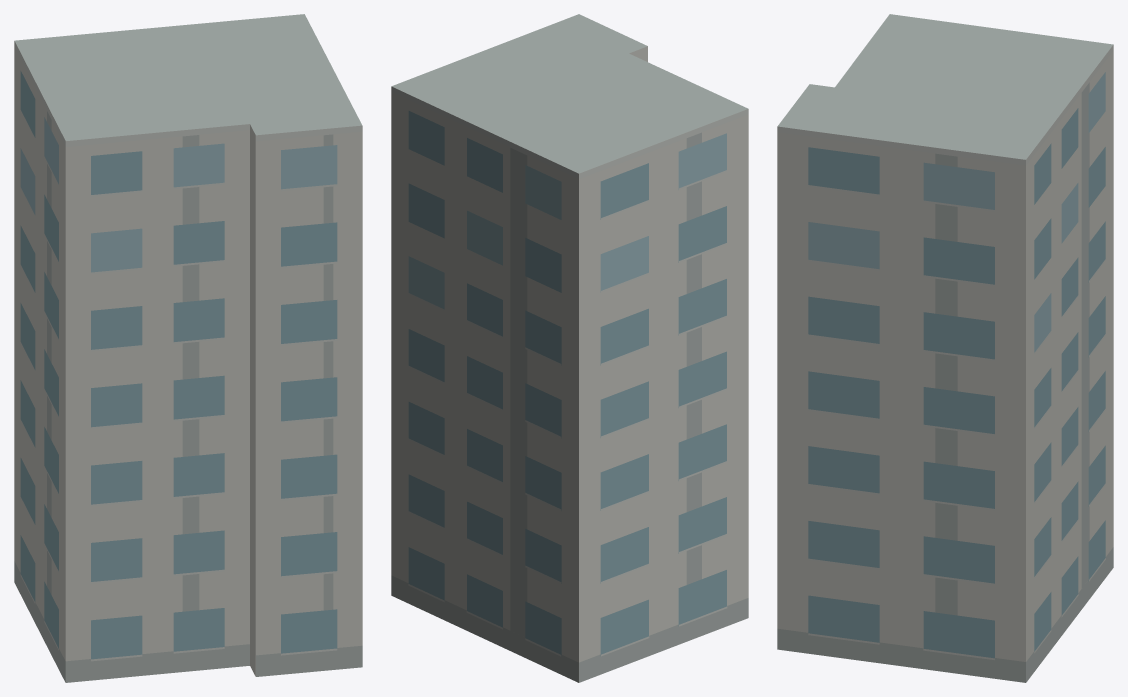
File: survey-upis-32579344.glb
3 renders of one model, left to right at view 1: azimuth 30°, elevation 25°; view 2: azimuth 150°, elevation 25°; view 3: azimuth 270°, elevation 25°, orthographic. The views are drawn at different scales.
Visible parts, largest first — view 1: survey-upis-32579344.tmp; view 2: survey-upis-32579344.tmp; view 3: survey-upis-32579344.tmp.
Boxes of the visible parts, x1=… form: survey-upis-32579344.tmp: x1=14, y1=14, x2=362, y2=682; survey-upis-32579344.tmp: x1=391, y1=14, x2=748, y2=682; survey-upis-32579344.tmp: x1=777, y1=14, x2=1113, y2=682.
Bounding box in the file's own units: 12.78 × 21.35 × 12.45.
